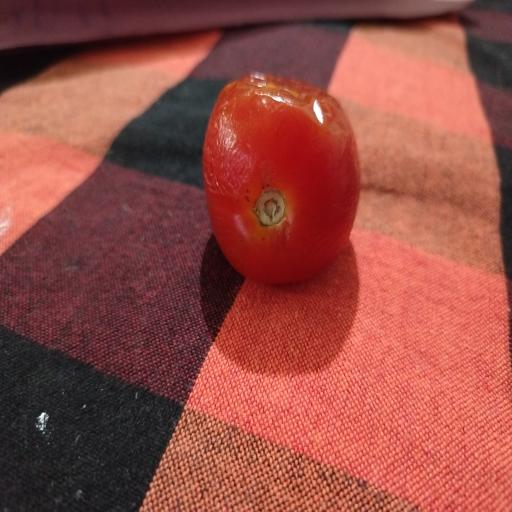spoiled: (203, 74, 360, 283)
